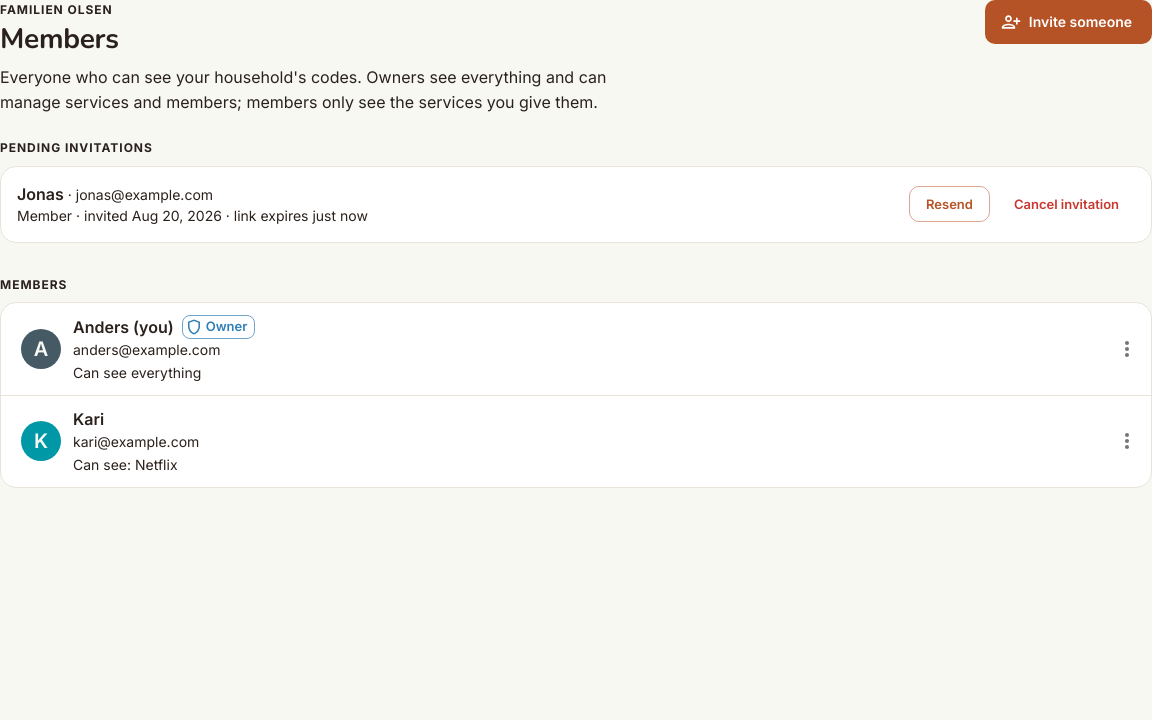
it: MembersPage › hands over a link when the invitation email cannot be sent
Click the button "Invite someone": {"x": 1068, "y": 22} [985,0,1151,44]
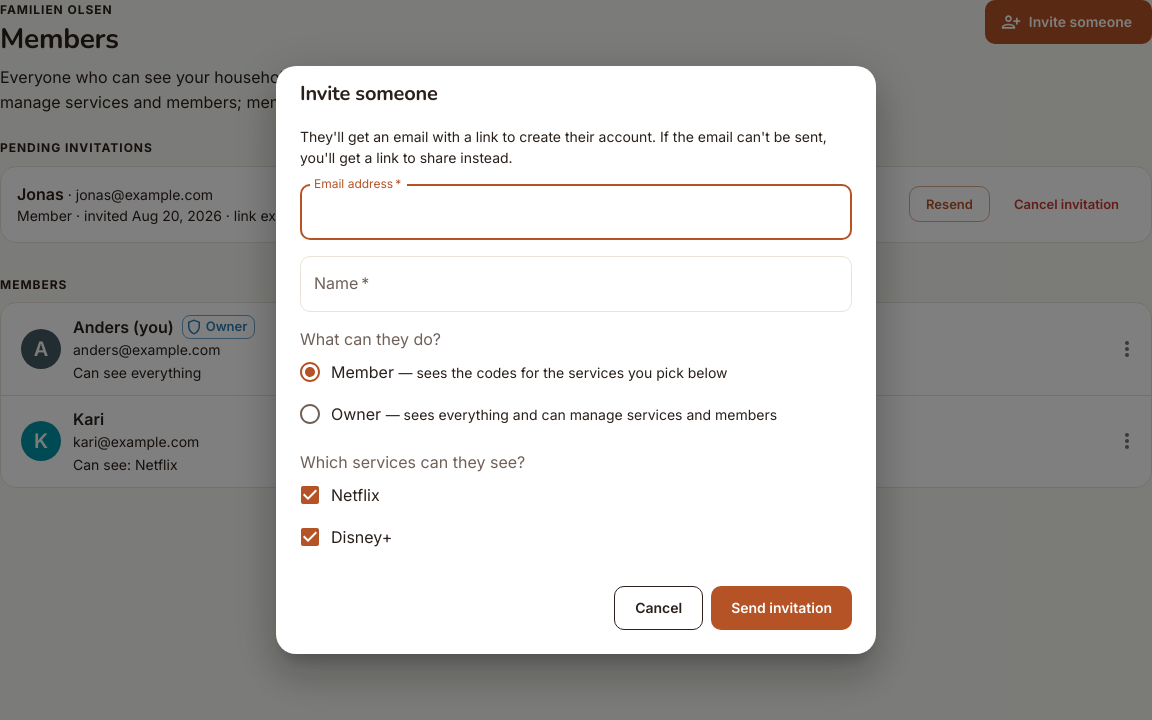
In the field labelled "Email address *": {"x": 576, "y": 212} [300,184,852,240], type "mor@example.com"
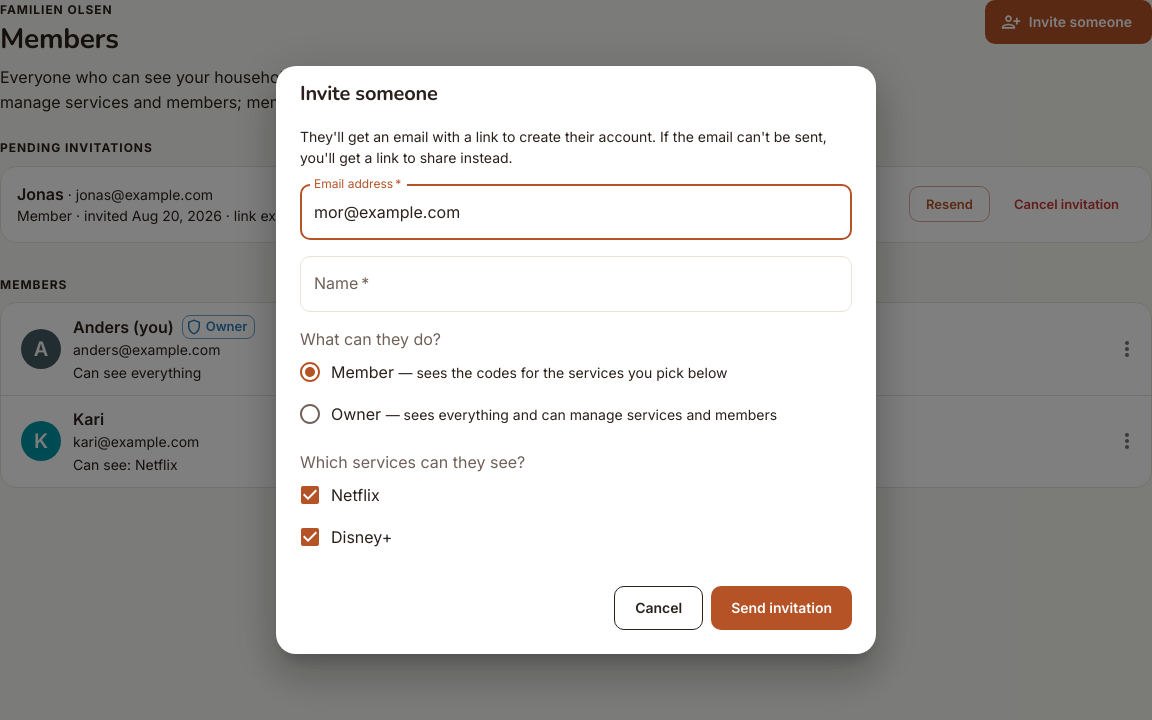
In the field labelled "Name *": {"x": 576, "y": 284} [300,256,852,312], type "Mor"
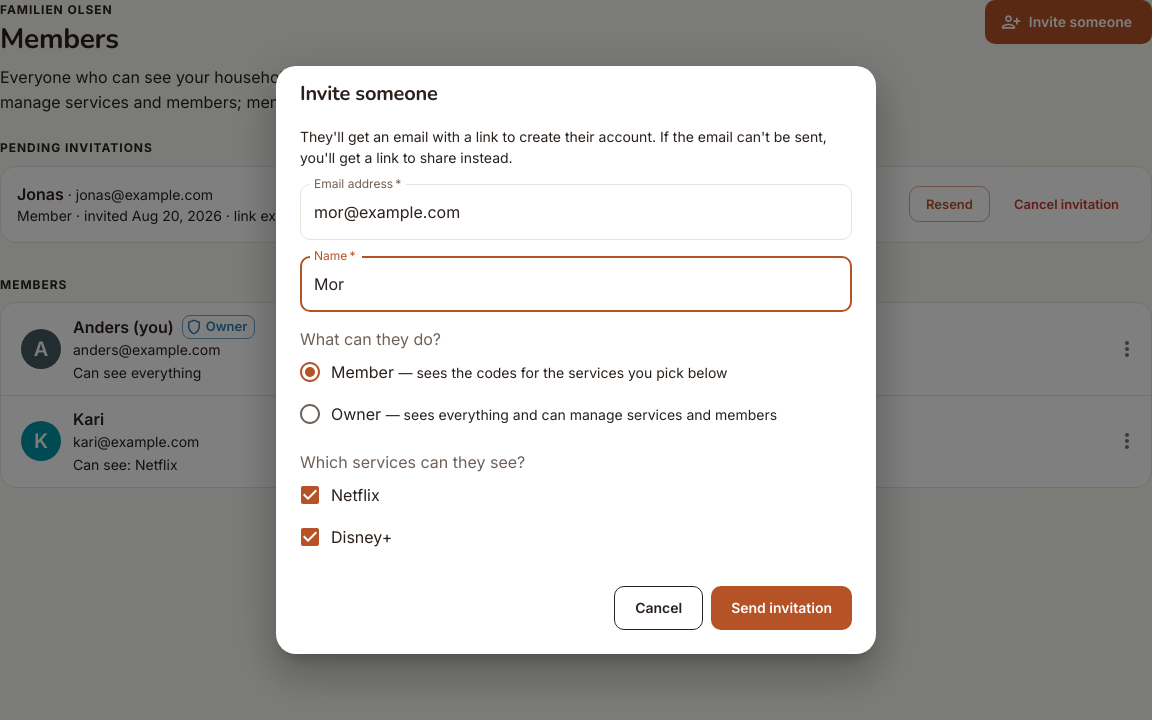
Click the button "Send invitation": {"x": 782, "y": 608} [711,586,852,630]
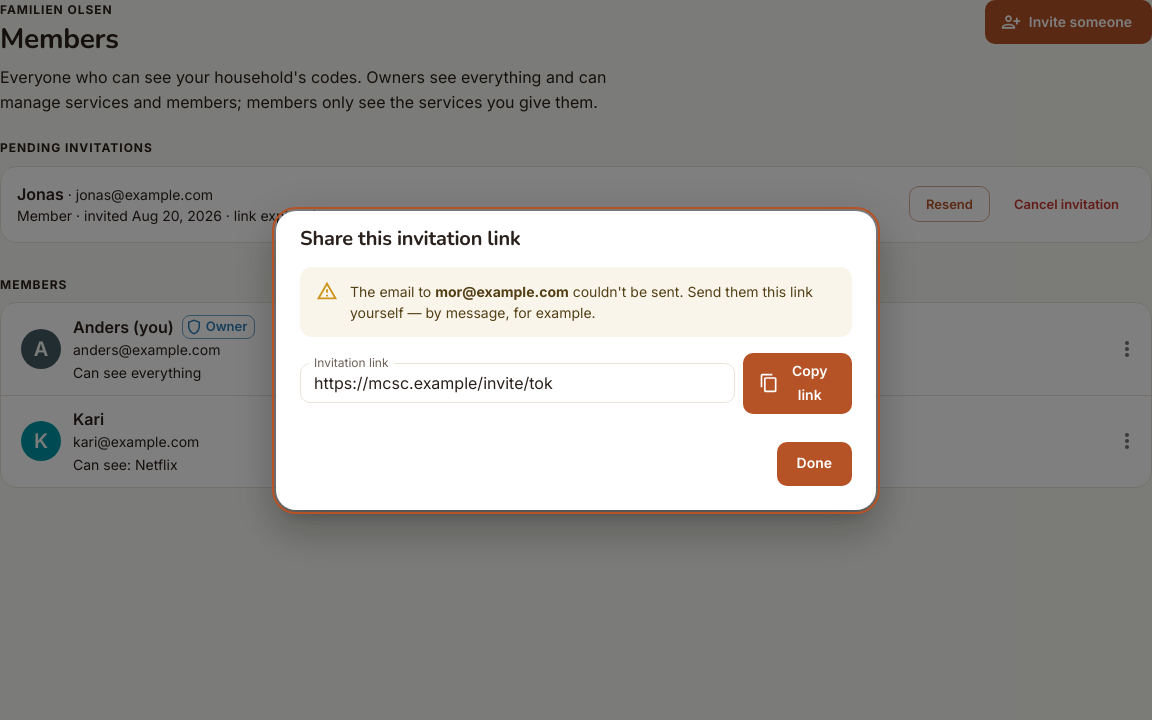
Now the field showing "https://mcsc.example/invite/tok" is shown, box [300,363,735,403]
Now the button "Copy link" is shown, box [743,352,852,414]
